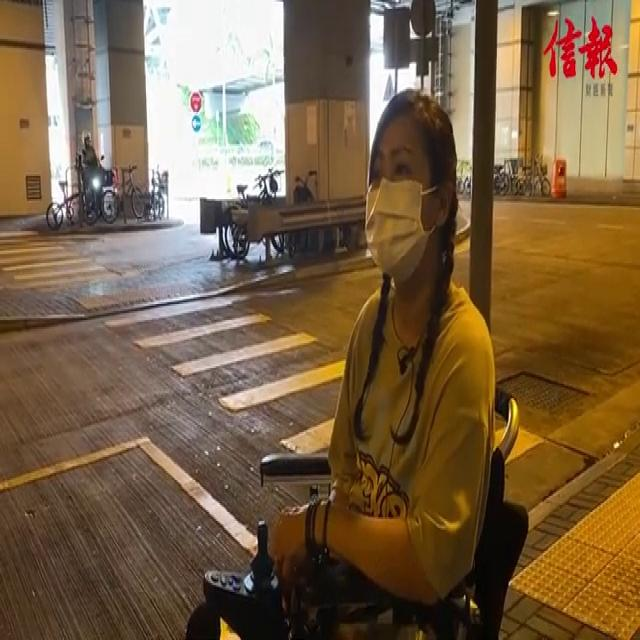wheelchairs: (188, 348, 536, 640)
